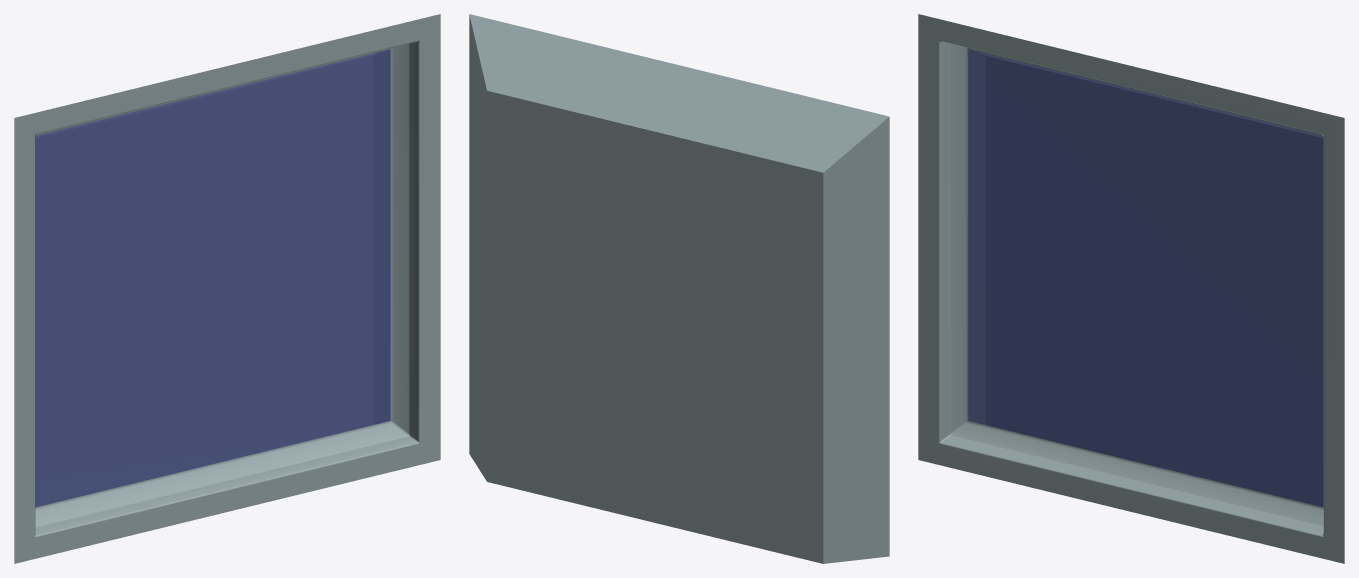
File: 20161031_Wall_004.fbx
The picture shows the model from 3 angles, left to right: view 1: azimuth 30°, elevation 25°; view 2: azimuth 150°, elevation 25°; view 3: azimuth 330°, elevation 25°; orthographic projection.
Visible parts, largest first — view 1: polySurface3, polySurface2, polySurface1; view 2: polySurface2, polySurface1; view 3: polySurface3, polySurface2, polySurface1.
Boxes of the visible parts, bbox=[...] form: polySurface3: bbox=[35, 49, 390, 507]; polySurface2: bbox=[35, 56, 372, 506]; polySurface1: bbox=[14, 14, 440, 563]; polySurface2: bbox=[487, 91, 823, 563]; polySurface1: bbox=[469, 14, 889, 563]; polySurface3: bbox=[968, 49, 1323, 507]; polySurface2: bbox=[986, 56, 1323, 506]; polySurface1: bbox=[918, 14, 1344, 563].
Bounding box in the file's own units: 1 × 1 × 0.1.
